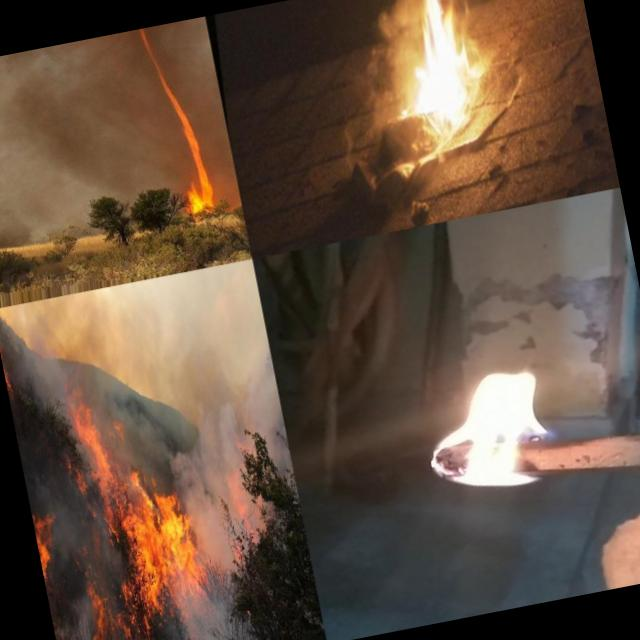fire: (406, 354, 584, 515), (108, 464, 212, 623), (406, 48, 494, 141), (73, 392, 118, 482), (69, 574, 123, 640), (32, 508, 66, 598), (181, 148, 225, 212), (106, 581, 141, 640), (0, 319, 15, 400), (162, 81, 190, 123), (146, 46, 170, 86), (177, 118, 204, 153), (130, 27, 155, 51)
smoke: (0, 259, 271, 407), (0, 31, 158, 220), (167, 374, 241, 609), (195, 358, 300, 523), (101, 378, 183, 477), (48, 492, 119, 582), (344, 62, 418, 130), (0, 198, 92, 250), (374, 0, 427, 64), (152, 20, 199, 84), (182, 601, 256, 640), (336, 126, 387, 176), (147, 124, 185, 188)
